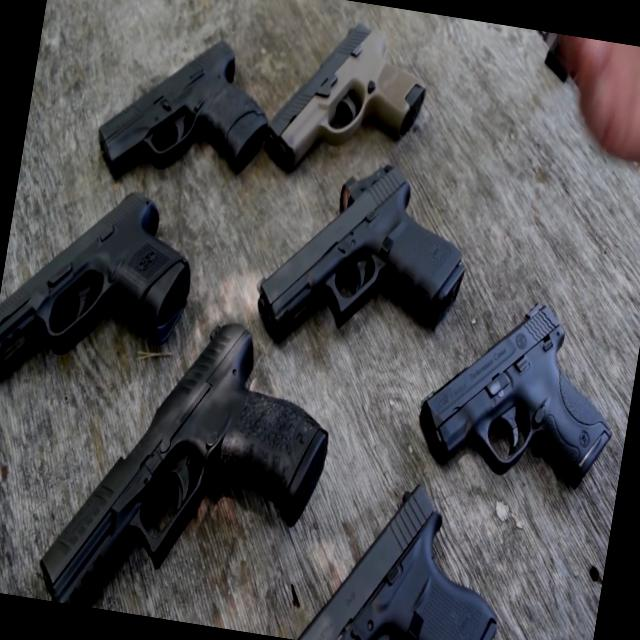handgun: (25, 298, 344, 640), (230, 149, 485, 382), (0, 163, 226, 412), (377, 283, 639, 496), (300, 468, 551, 639), (88, 12, 280, 218), (251, 0, 429, 215)
